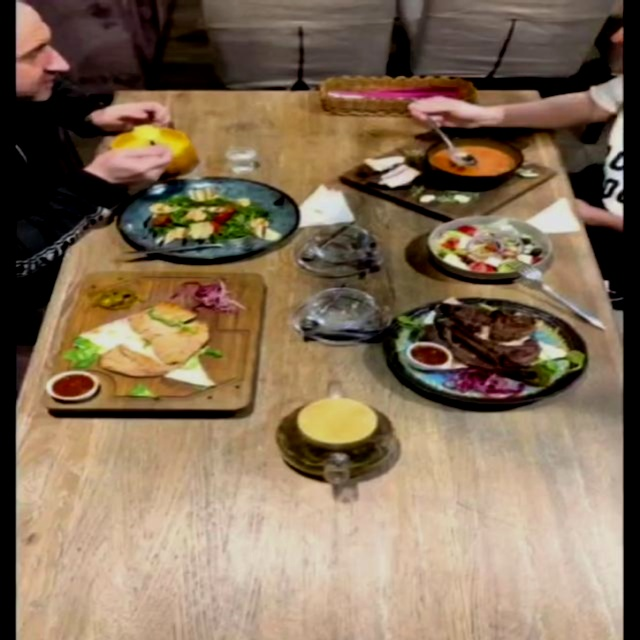meat: (37, 273, 267, 416), (379, 295, 589, 405)
salad: (113, 176, 296, 260), (426, 213, 554, 279)
soup: (335, 138, 555, 221), (110, 125, 197, 174)
tea: (273, 395, 398, 481)
